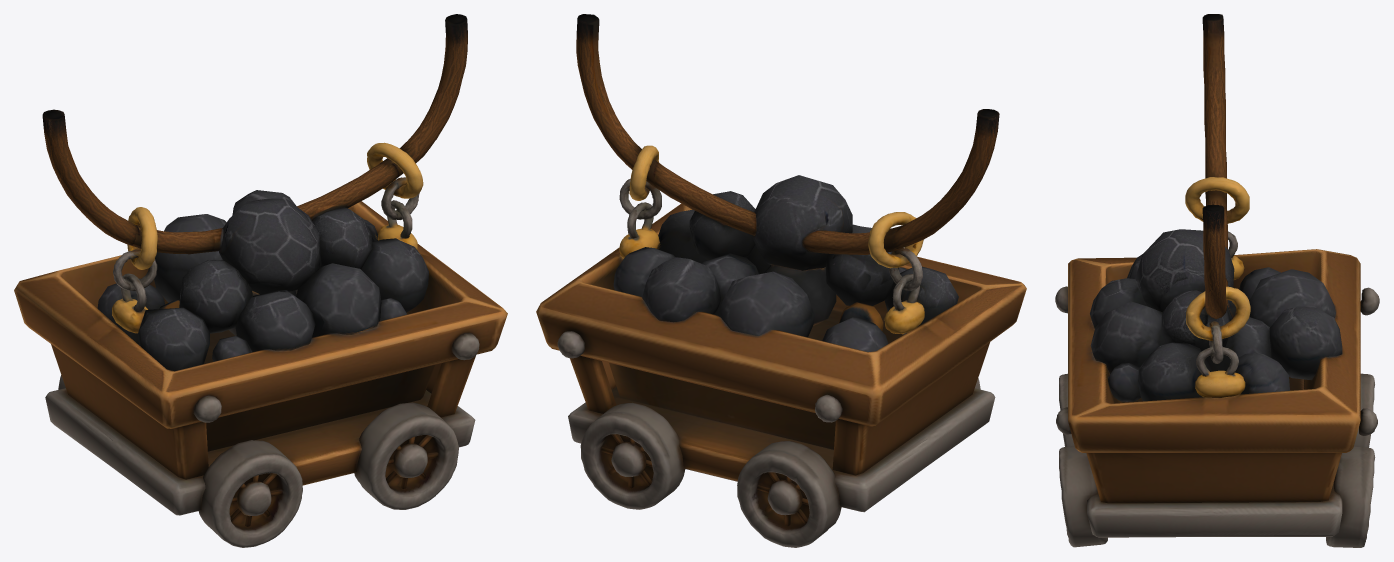
File: mem_ac_woodencart.fbx
3 renders of one model, left to right at view 1: azimuth 30°, elevation 25°; view 2: azimuth 150°, elevation 25°; view 3: azimuth 270°, elevation 25°, orthographic. The views are drawn at different scales.
Parts seen in each view (by area): view 1: tripo_node_ecae6e49; view 2: tripo_node_ecae6e49; view 3: tripo_node_ecae6e49.
Boxes of the visible parts, x1=… form: tripo_node_ecae6e49: x1=14, y1=14, x2=507, y2=547; tripo_node_ecae6e49: x1=536, y1=14, x2=1026, y2=547; tripo_node_ecae6e49: x1=1055, y1=14, x2=1379, y2=547.
Size of the model in its own units: 0.998 by 0.9316 by 0.6973.
